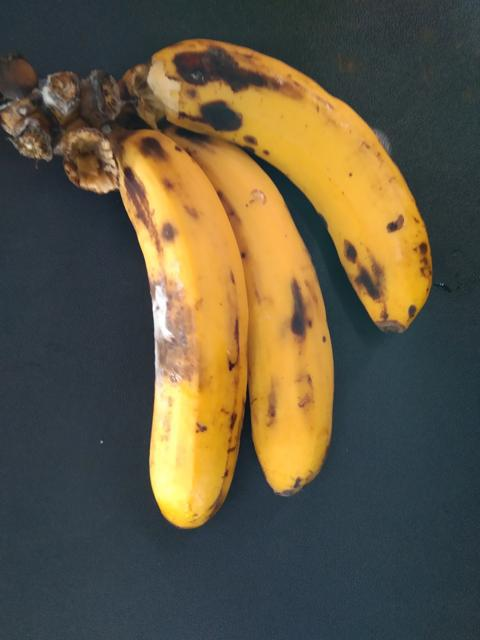overripe: (142, 24, 444, 342), (77, 122, 248, 535), (177, 122, 352, 522)
rotten: (102, 218, 215, 400)
